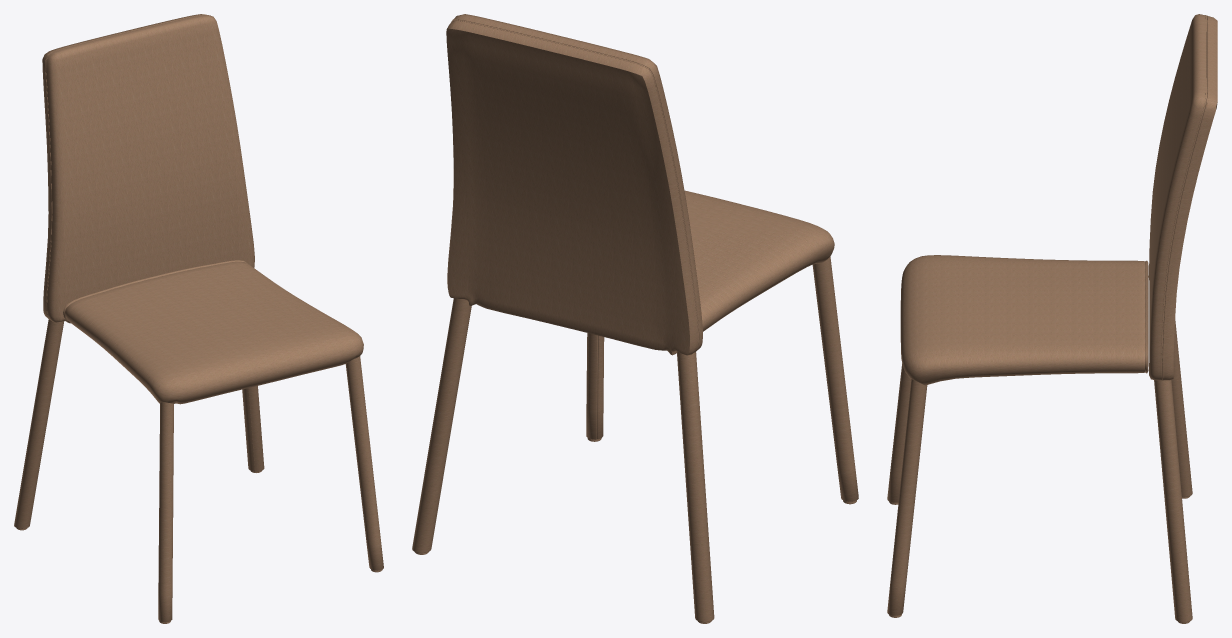
Rendered from BHID01249.glb.
3 views of the same model, side by side, from view 1: azimuth 30°, elevation 25°; view 2: azimuth 150°, elevation 25°; view 3: azimuth 270°, elevation 25° (orthographic). The views are drawn at different scales.
Parts seen in each view (by area): view 1: BP_BHID01249; view 2: BP_BHID01249; view 3: BP_BHID01249.
Part boxes in pixels (<box>): BP_BHID01249: <box>14,14,383,623</box>; BP_BHID01249: <box>412,14,858,623</box>; BP_BHID01249: <box>887,14,1217,623</box>.
Bounding box in the file's own units: 0.5373 × 0.9546 × 0.5661.
Materials: 1 (1 with a texture image).
